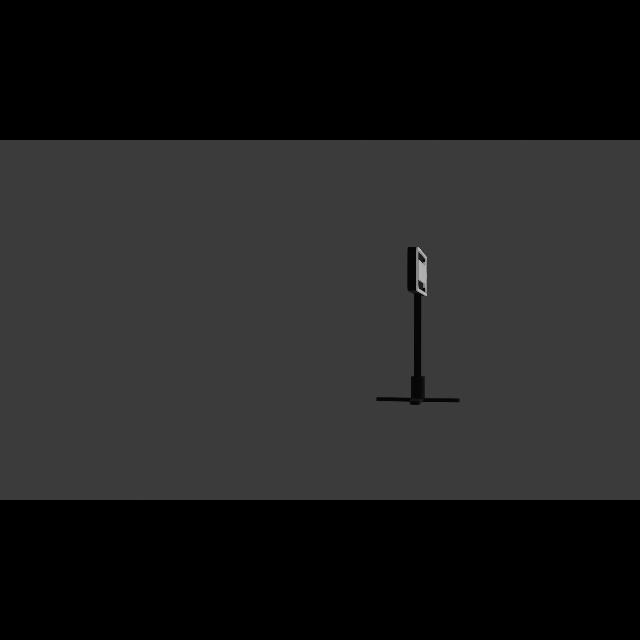sign_oneway_right: (409, 245, 432, 297)
